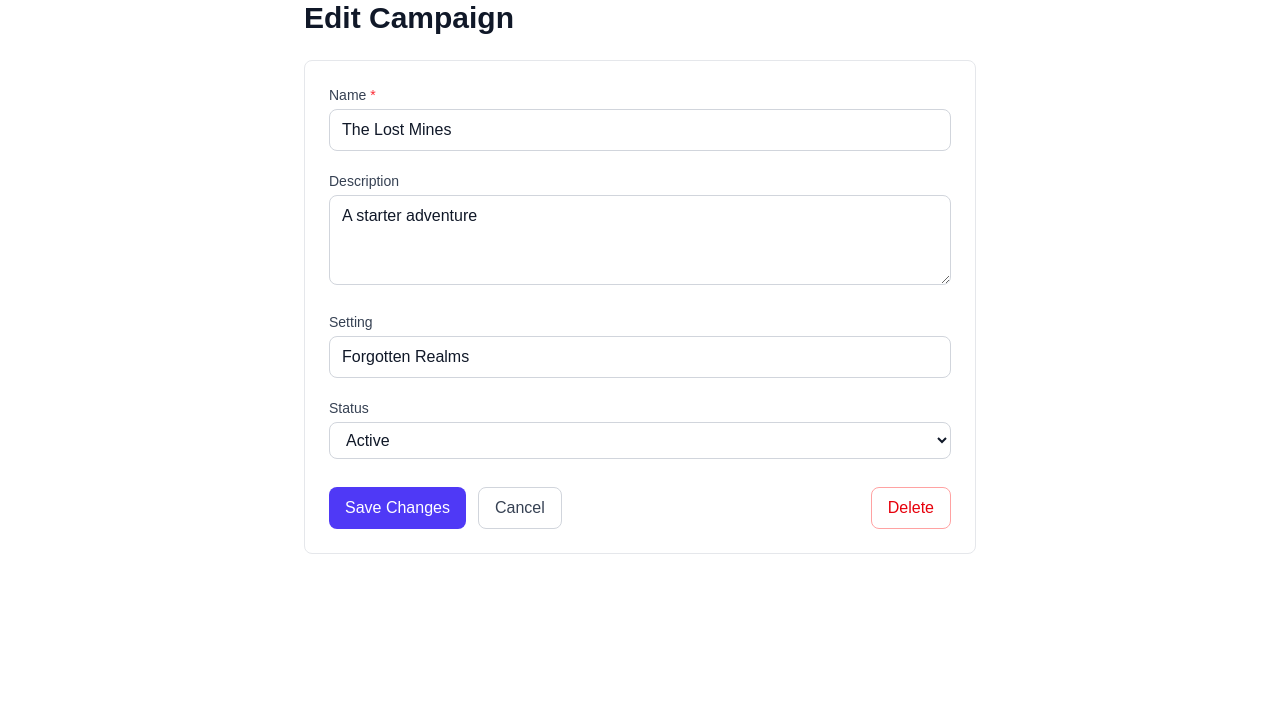
it: EditCampaignPage › Delete confirm dialog can be dismissed via Cancel
This screenshot has width=1280, height=720.
Expected: the field labelled "Name *" holds "The Lost Mines", [329,109,951,151]
Click the button "Delete" at (911, 508), box [871,487,951,529]
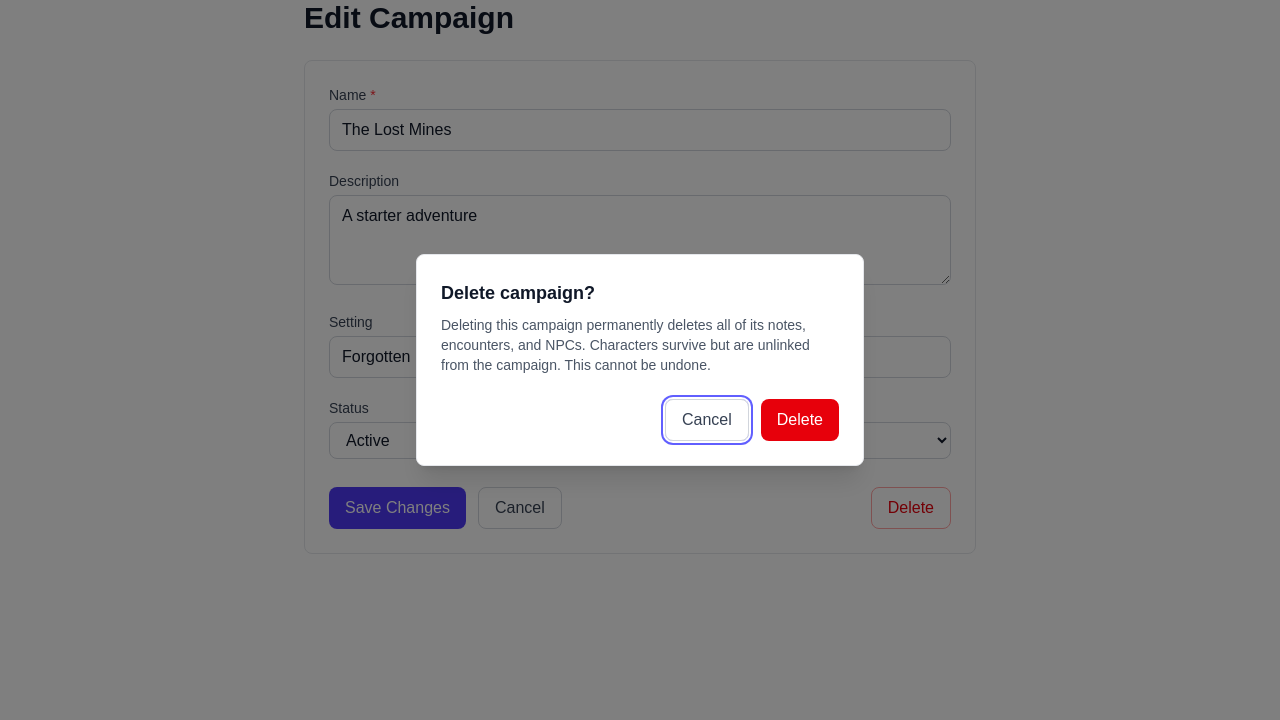
Click the button "Cancel" at (707, 420), box [665,399,749,441]
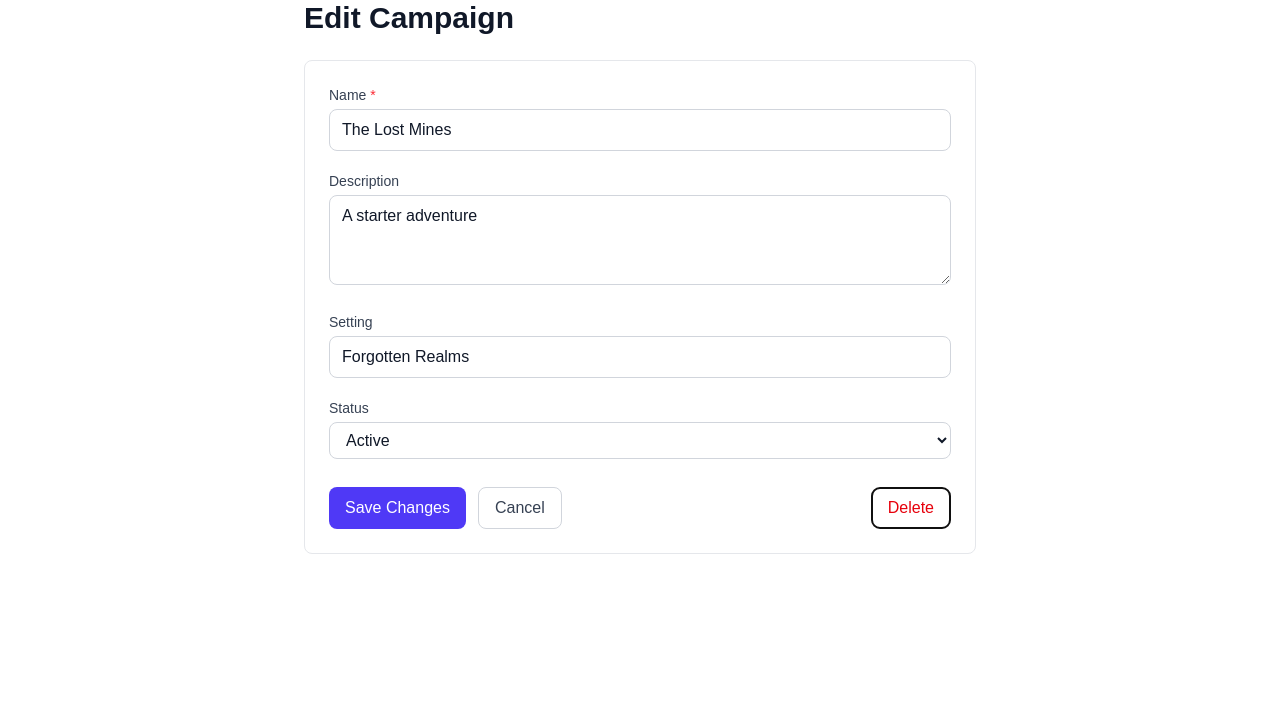
Result: the dialog is gone
